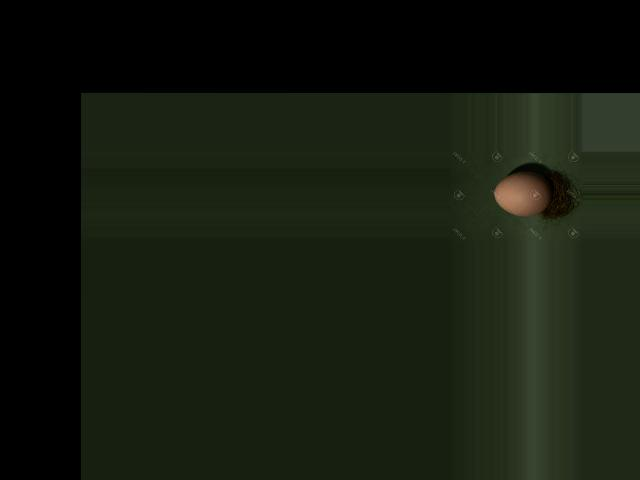egg: (493, 171, 551, 215)
